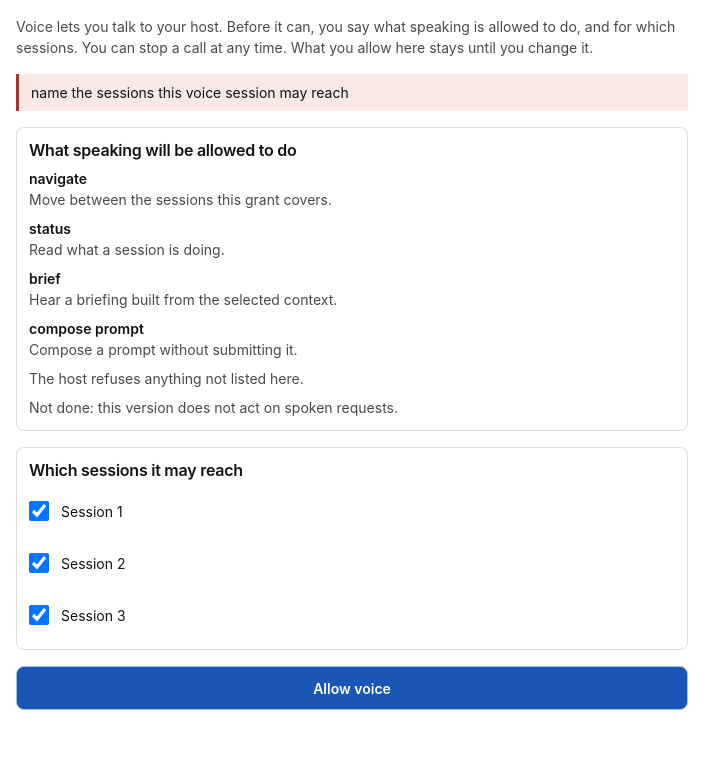
Test: allowing voice for the first time › says what the host said when it would not allow it, and stays on the question
(page scrolled)
Click the button with test id "voice-allow": click(352, 688) [16, 666, 688, 710]
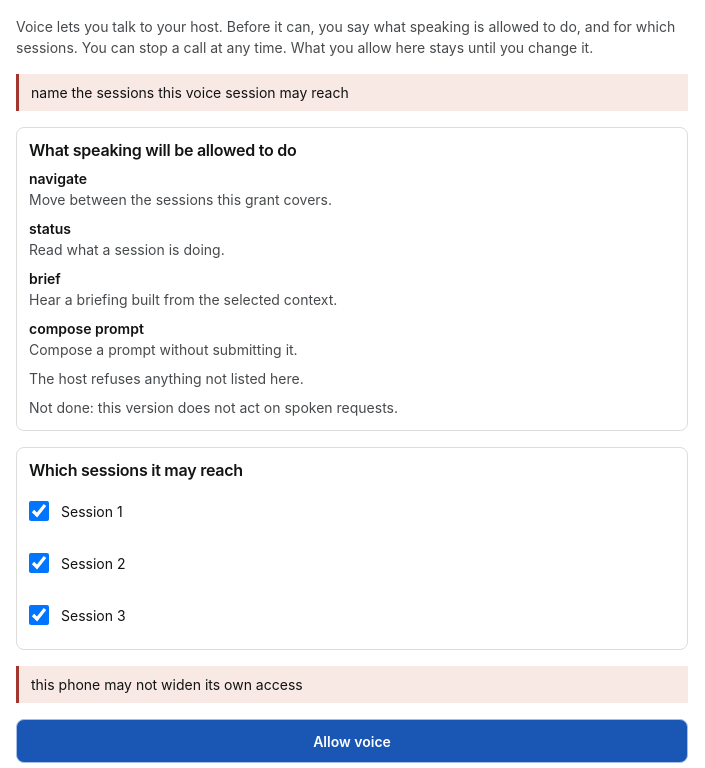
expect the button "Start voice session" is not shown: met
expect the message with test id "voice-grant-failure" shows "may not widen its own access": met, box [31, 676, 303, 693]
Click the button with test id "voice-allow": click(352, 741) [16, 719, 688, 763]
(page scrolled)
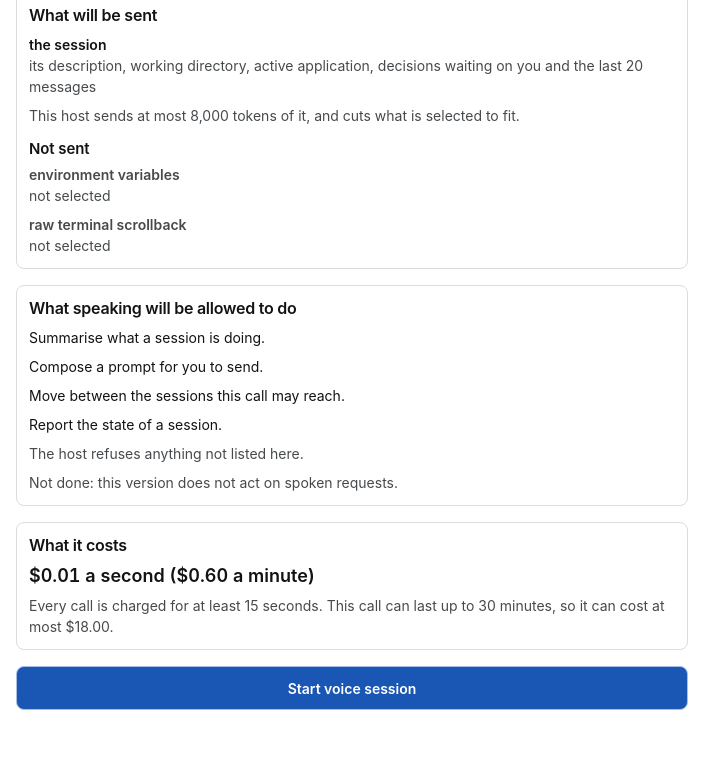
expect the button "Start voice session" is shown: met, box [16, 666, 688, 710]
